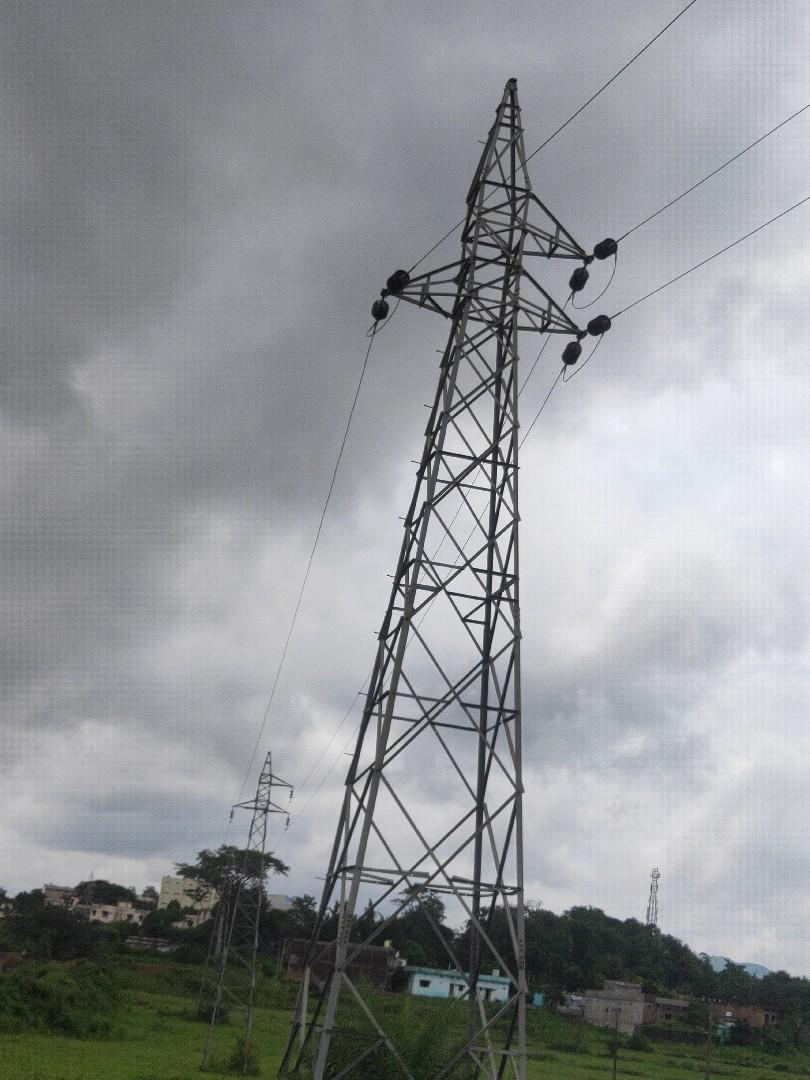GSM Antenna: (274, 76, 590, 1077)
